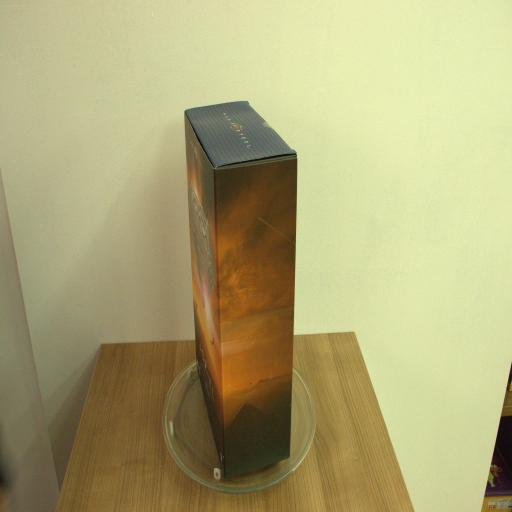superman: (184, 103, 297, 471)
